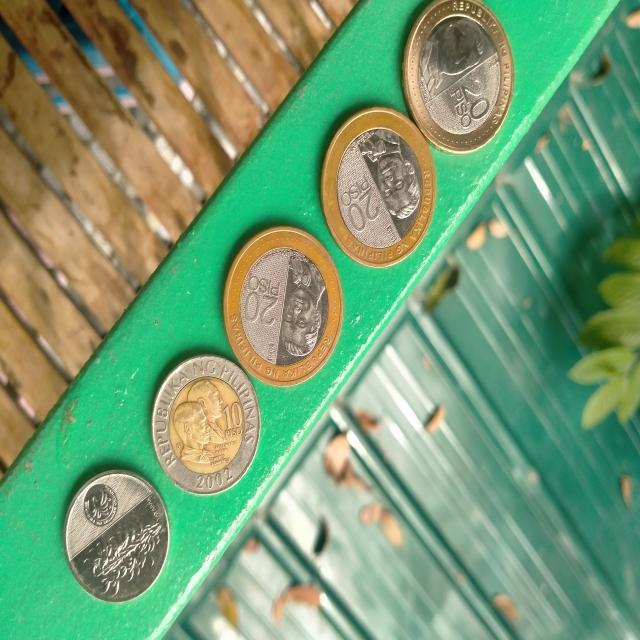10_Old_Front: (210, 386, 250, 458)
20_New_Front: (237, 263, 288, 341), (336, 167, 382, 238)
5_Old_Back: (78, 519, 169, 597)
